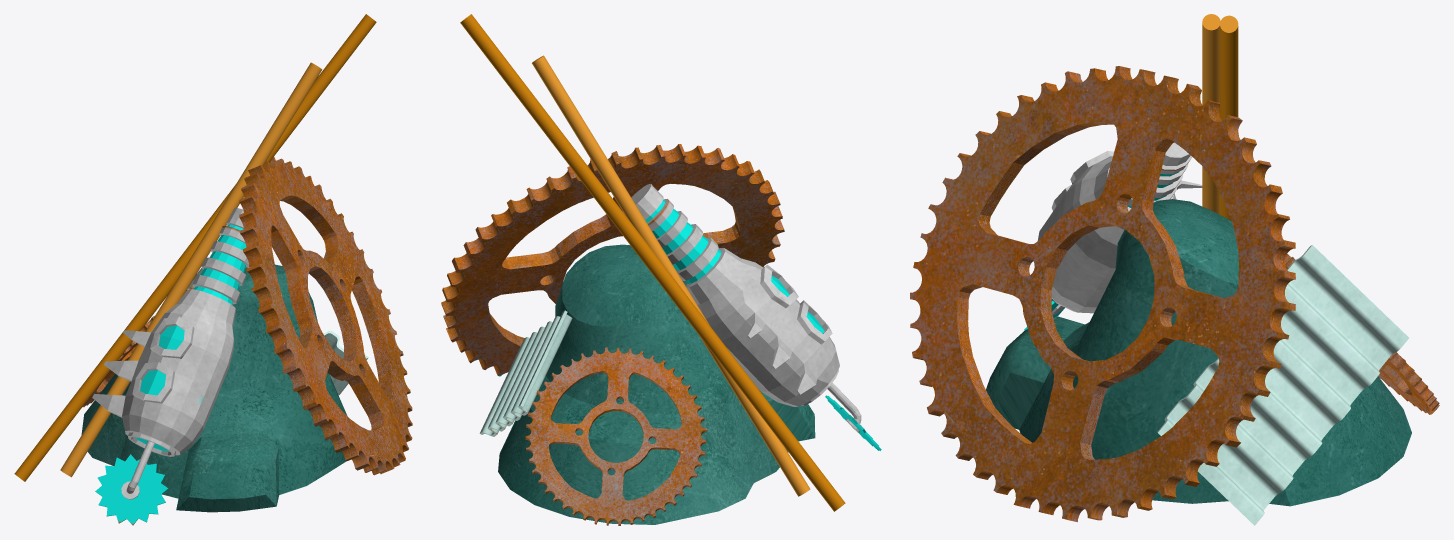
The model's file is pileupdated.fbx.
The picture shows the model from 3 angles, left to right: view 1: azimuth 30°, elevation 25°; view 2: azimuth 150°, elevation 25°; view 3: azimuth 270°, elevation 25°; orthographic projection. The views are drawn at different scales.
Parts seen in each view (by area): view 1: polySurface11; view 2: polySurface11; view 3: polySurface11.
Boxes of the visible parts, x1=… form: polySurface11: x1=14, y1=14, x2=412, y2=525; polySurface11: x1=441, y1=14, x2=881, y2=525; polySurface11: x1=910, y1=14, x2=1439, y2=525.
Size of the model in its own units: 3.04 by 2.98 by 2.73.
